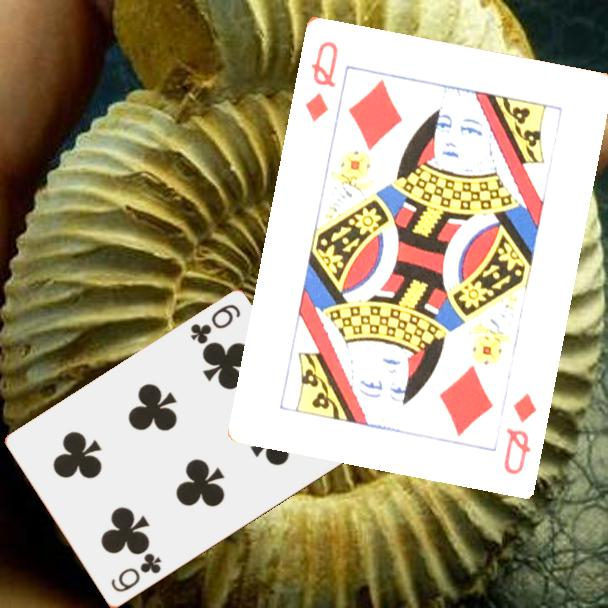c06: (187, 301, 243, 348), (107, 550, 164, 596)
d12: (499, 388, 539, 477), (301, 37, 341, 124)
